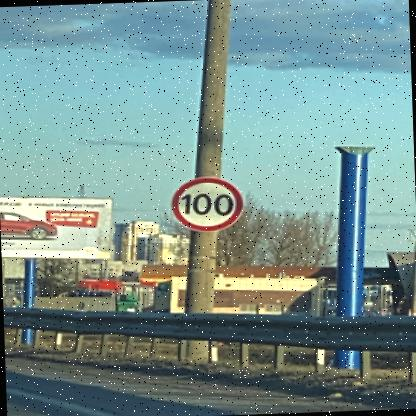speedlimit: (169, 175, 242, 231)
